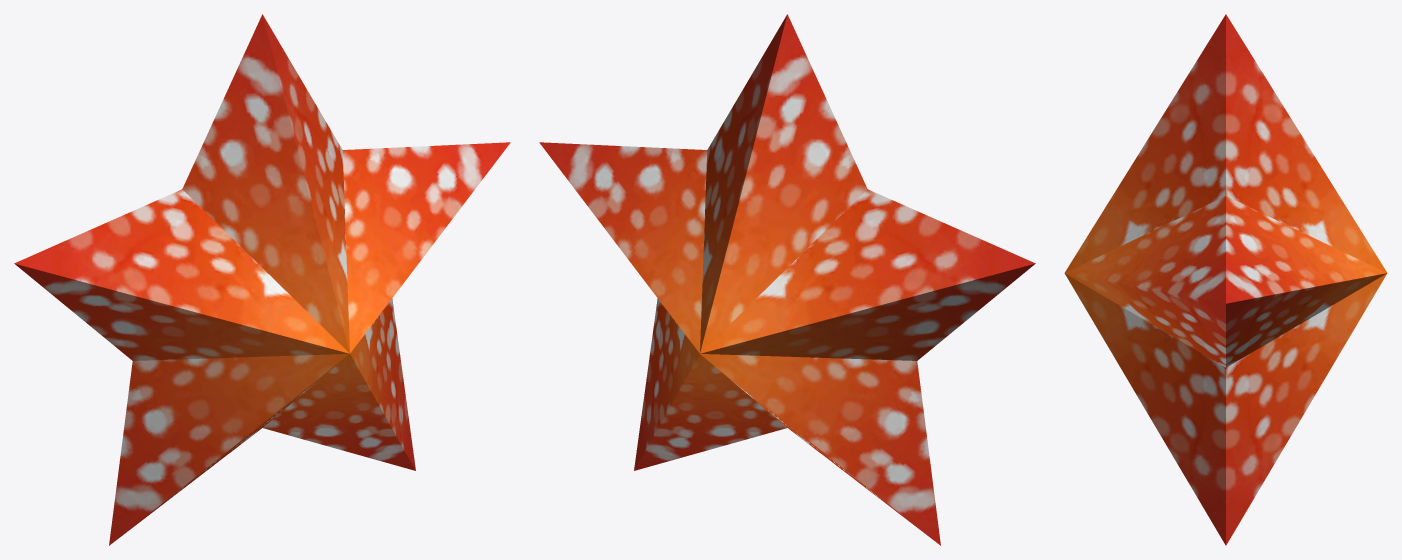
Rendered from star.FBX.
3 views of the same model, side by side, from view 1: azimuth 30°, elevation 25°; view 2: azimuth 150°, elevation 25°; view 3: azimuth 270°, elevation 25° (orthographic). The views are drawn at different scales.
Visible parts, largest first — view 1: Star; view 2: Star; view 3: Star.
Boxes of the visible parts, bbox=[...] form: Star: bbox=[14, 14, 510, 545]; Star: bbox=[539, 14, 1035, 545]; Star: bbox=[1064, 14, 1387, 545].
Size of the model in its own units: 3.77 by 2.27 by 3.58.
